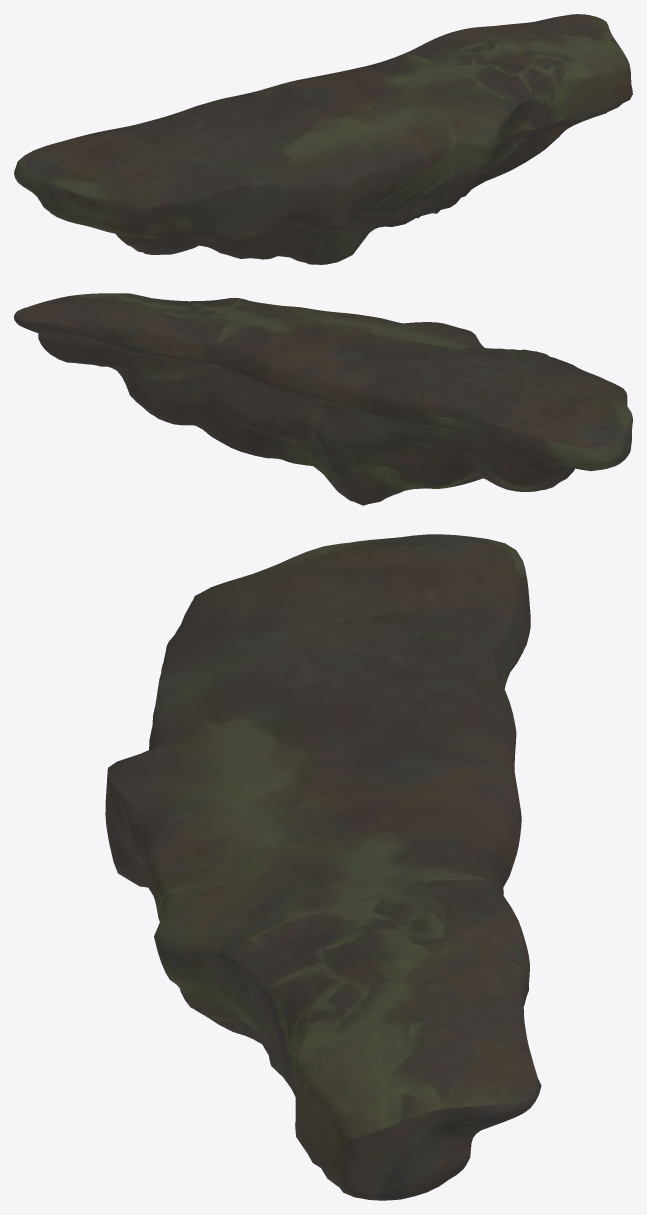
3 views of the same model, one above another, from view 1: azimuth 30°, elevation 25°; view 2: azimuth 150°, elevation 25°; view 3: azimuth 270°, elevation 25° (orthographic). The views are drawn at different scales.
Parts seen in each view (by area): view 1: SM_RiverBank_01_LOD0; view 2: SM_RiverBank_01_LOD0; view 3: SM_RiverBank_01_LOD0.
Boxes of the visible parts, x1,y1,x2,y2 form: SM_RiverBank_01_LOD0: (14,14,632,264); SM_RiverBank_01_LOD0: (14,293,632,505); SM_RiverBank_01_LOD0: (105,534,541,1200).
Size of the model in its own units: 30.35 by 7.61 by 9.7.
Materials: 1 (1 with a texture image).
